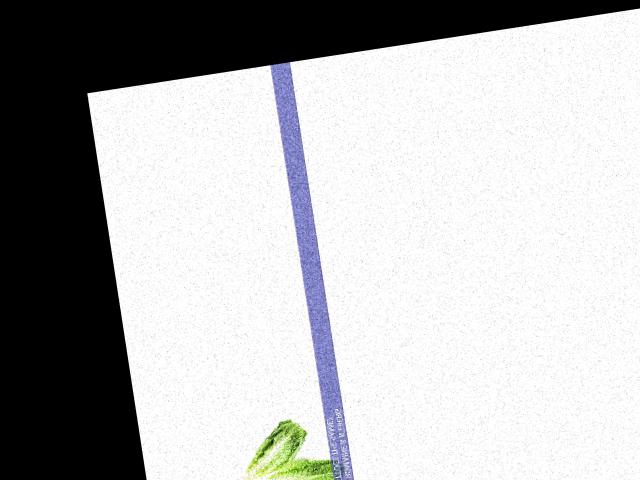lettuce: (228, 417, 321, 480)
